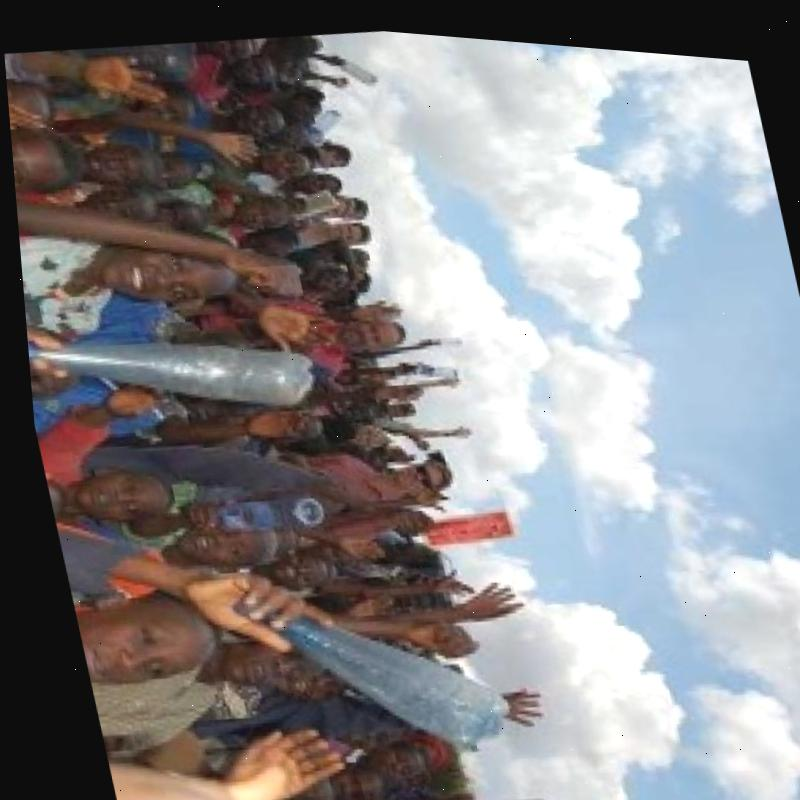botella: (250, 576, 503, 762), (19, 297, 320, 436)
